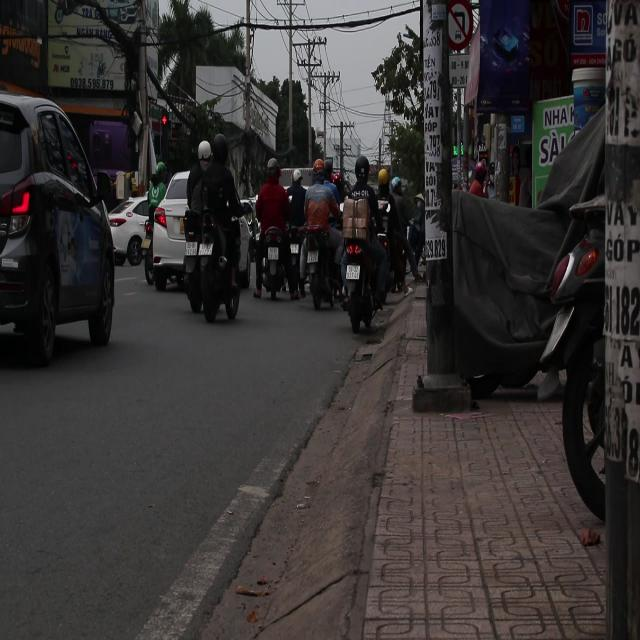car: (0, 82, 116, 364), (144, 172, 194, 293), (108, 196, 152, 266)
motorbike: (337, 171, 391, 335), (258, 219, 339, 310), (192, 214, 245, 323)
